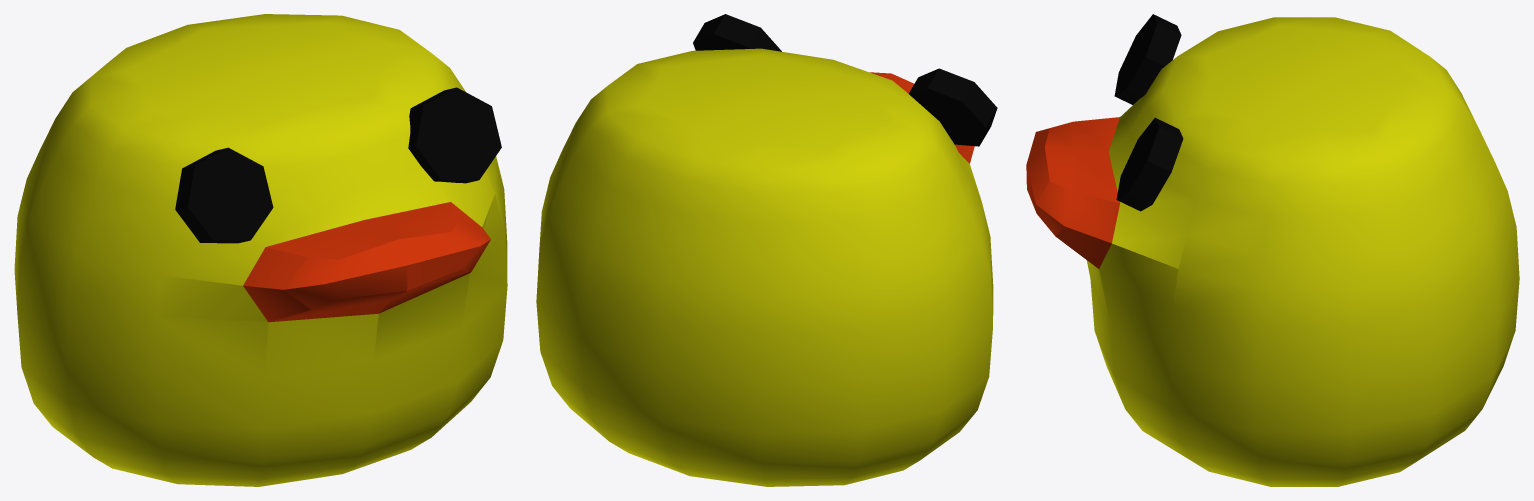
The model's file is Pllovivo.fbx.
The picture shows the model from 3 angles, left to right: view 1: azimuth 30°, elevation 25°; view 2: azimuth 150°, elevation 25°; view 3: azimuth 270°, elevation 25°; orthographic projection. The views are drawn at different scales.
Visible parts, largest first — view 1: Mesh; view 2: Mesh; view 3: Mesh.
Boxes of the visible parts, left/top/right/bottom form: Mesh: left=14, top=14, right=507, bottom=486; Mesh: left=536, top=14, right=997, bottom=486; Mesh: left=1026, top=14, right=1519, bottom=486.
Bounding box in the file's own units: 354 × 283 × 359.
